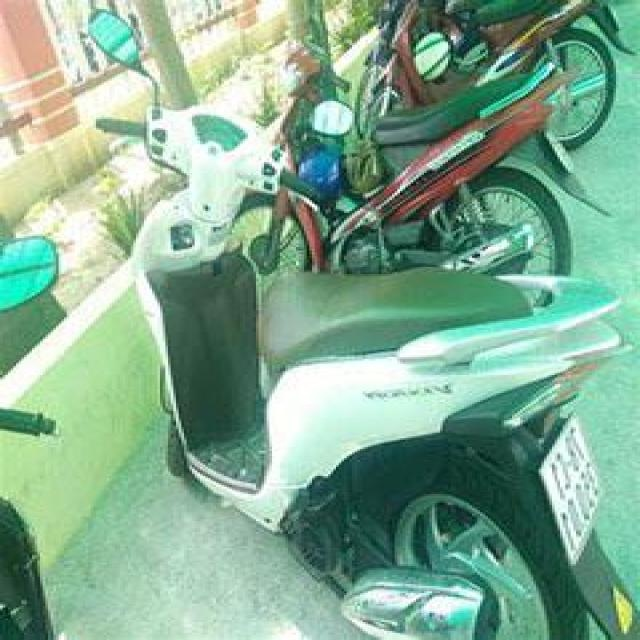motorcycle: (114, 0, 639, 636), (264, 35, 589, 277), (335, 0, 615, 142)
